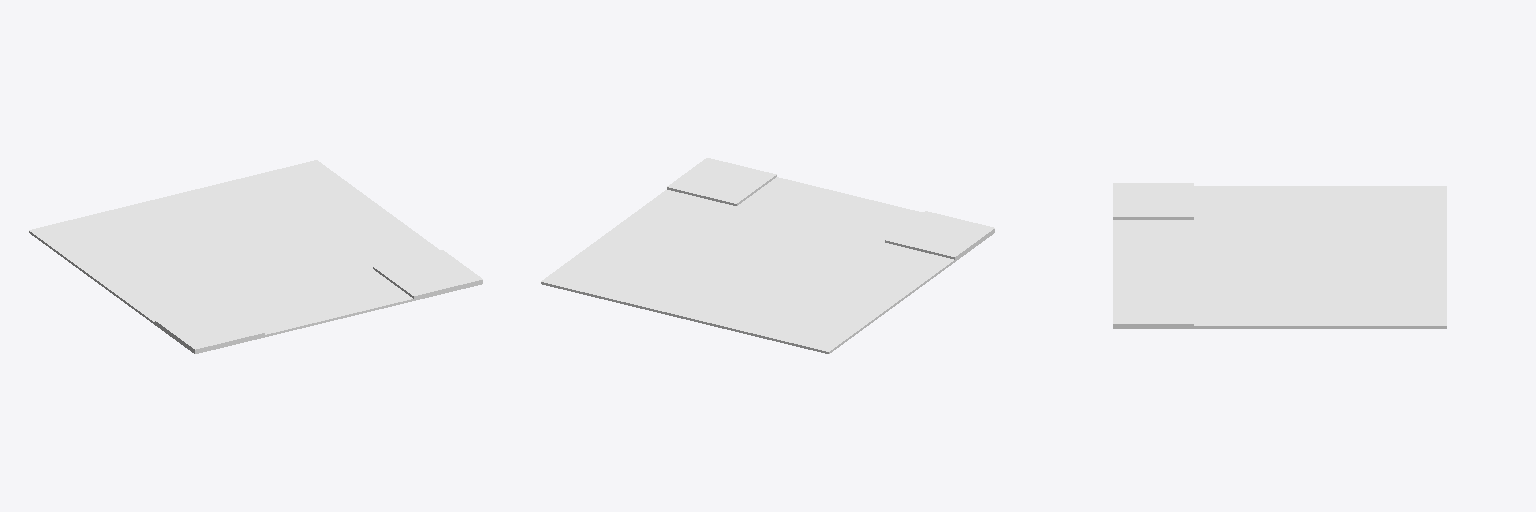
File: GDS2_Floor2-4.obj
3 renders of one model, left to right at view 1: azimuth 30°, elevation 25°; view 2: azimuth 150°, elevation 25°; view 3: azimuth 270°, elevation 25°, orthographic.
Parts seen in each view (by area): view 1: GDS2_Floor2-4; view 2: GDS2_Floor2-4; view 3: GDS2_Floor2-4.
Boxes of the visible parts, x1,y1,x2,y2 form: GDS2_Floor2-4: [29, 160, 482, 353]; GDS2_Floor2-4: [541, 158, 994, 353]; GDS2_Floor2-4: [1113, 183, 1446, 328].
Bounding box in the file's own units: 12.8 × 0.2 × 12.8.